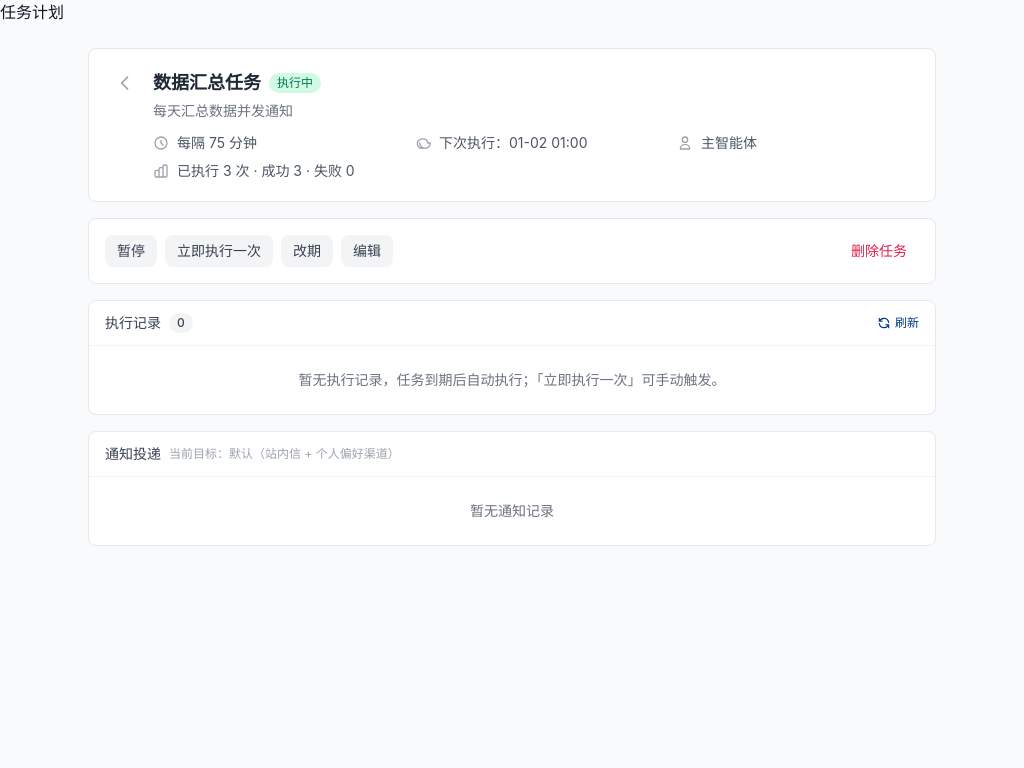
Test case: TaskPlanView - 评审修复回归 › P2-7 编辑弹窗添加附件：上传返回 file_id 组装 AttachmentRef
Click the button "编辑" at (367, 251), box [341,235,393,267]
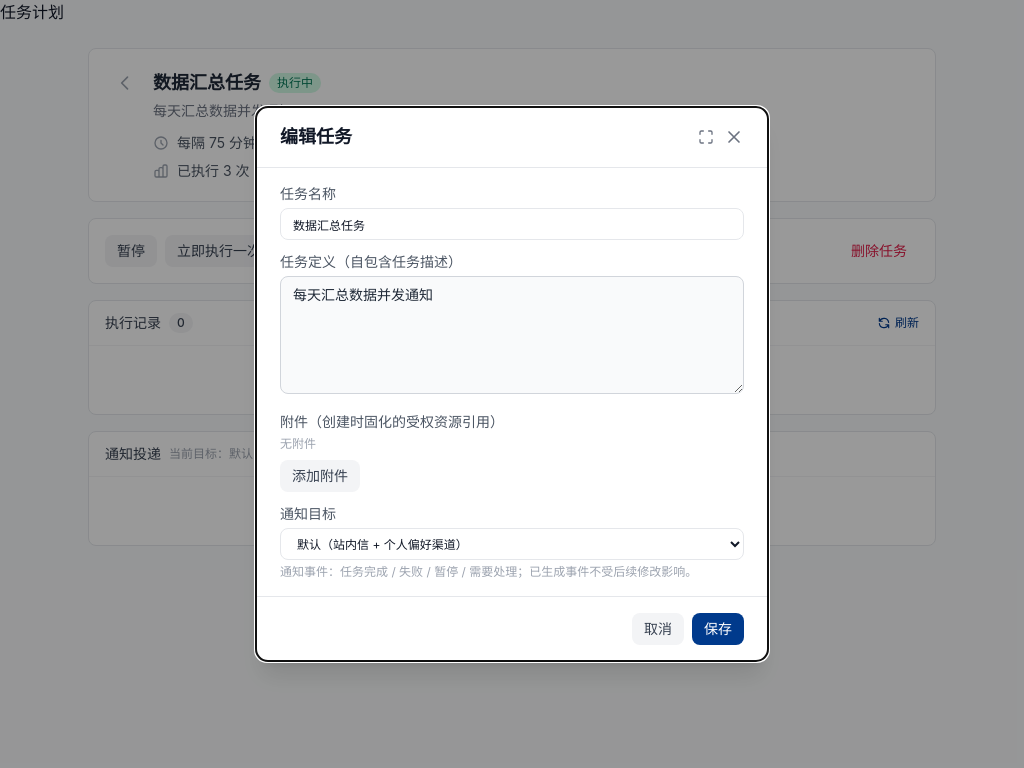
Now the file field with id "task-plan-edit-attachment-input" is shown, box [280,413,504,430]
